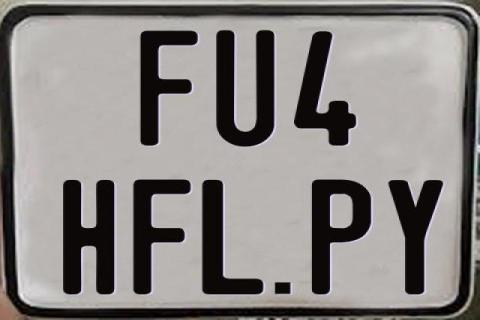0: (294, 31, 357, 147)
F: (137, 28, 199, 147), (132, 180, 195, 296)
H: (61, 178, 118, 294)
L: (199, 179, 264, 295)
P: (312, 179, 371, 296)
U: (216, 30, 274, 148)
Y: (387, 179, 446, 295)
